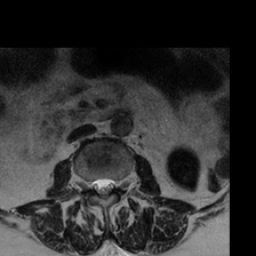CCS_normal: (100, 172, 107, 201)
LFS_normal: (114, 172, 121, 195)
LLS_normal: (107, 173, 114, 196)
RFS_normal: (84, 172, 92, 196)
RLS_normal: (92, 172, 100, 197)
